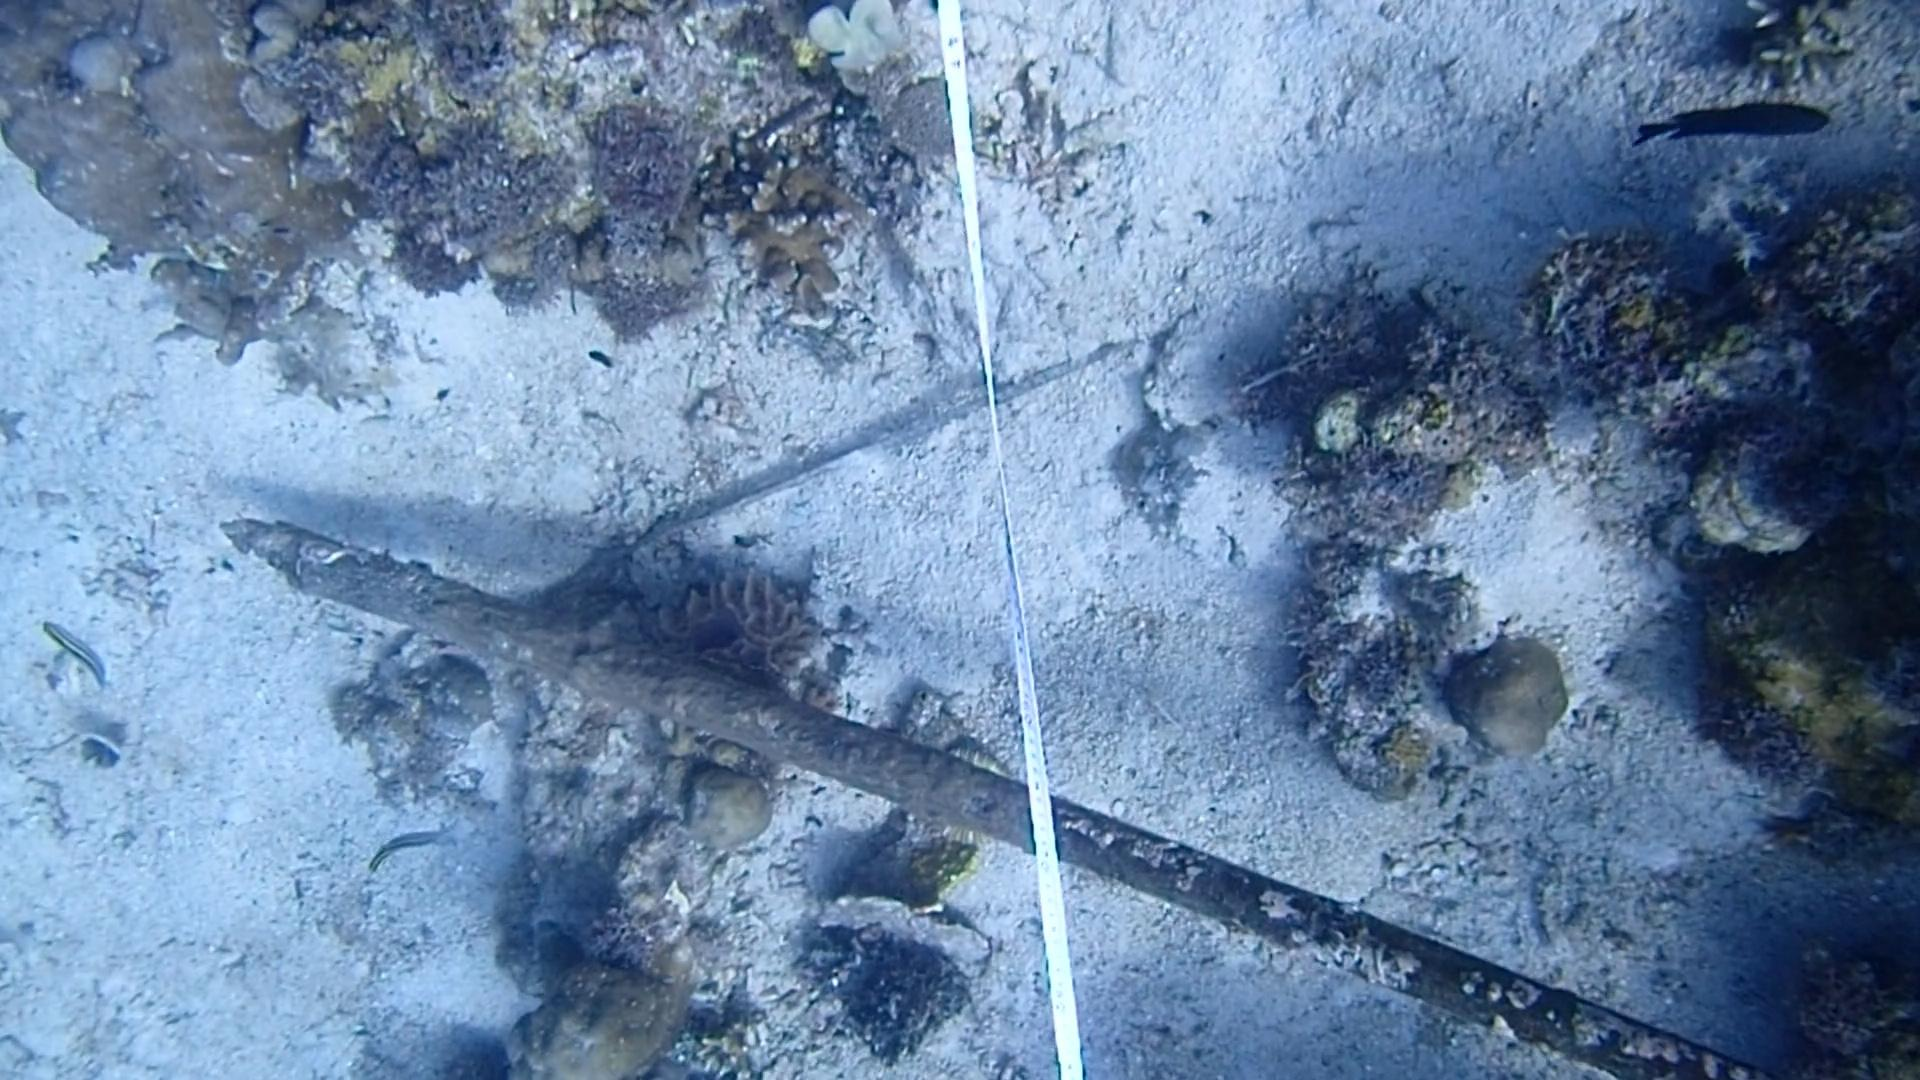Dark Fish: (1629, 84, 1833, 152)
Striped Fish: (30, 612, 123, 691), (357, 815, 464, 880)
